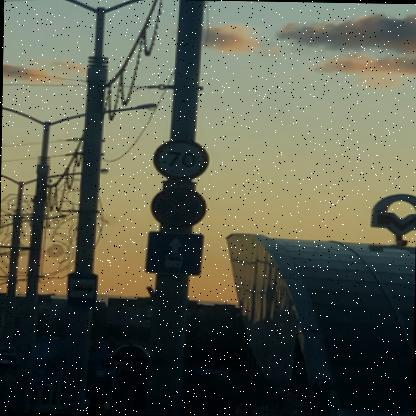speedlimit: (150, 136, 206, 178)
